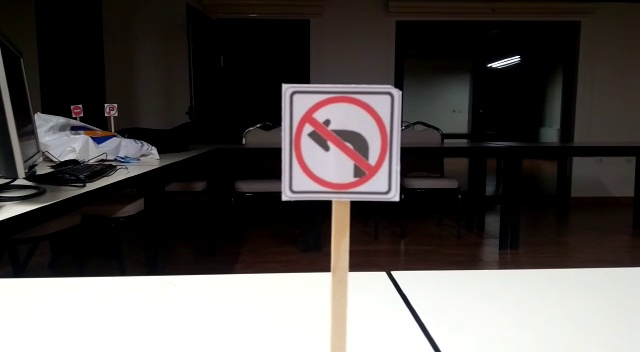sola_donulmez: (285, 88, 392, 197)
